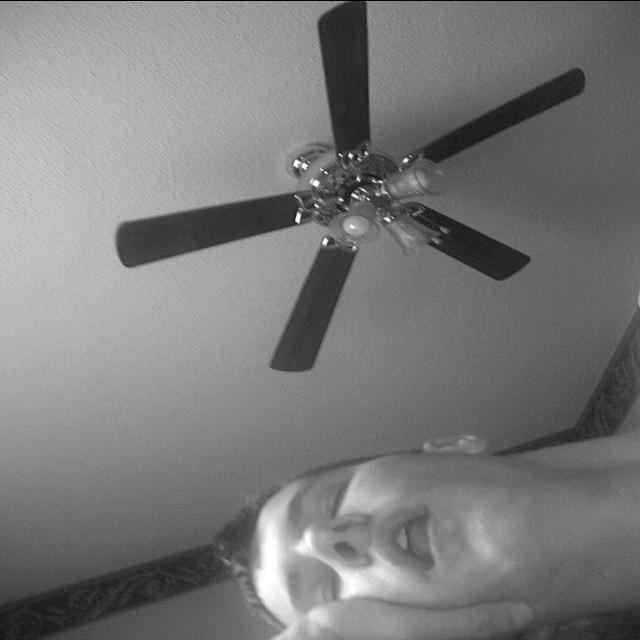fan: (113, 0, 585, 372)
